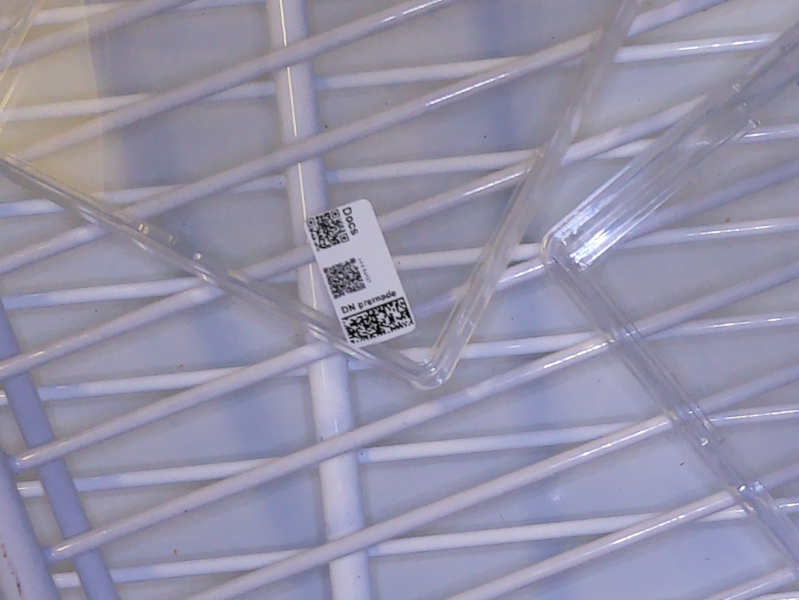plate: (1, 1, 645, 394), (541, 23, 799, 569)
